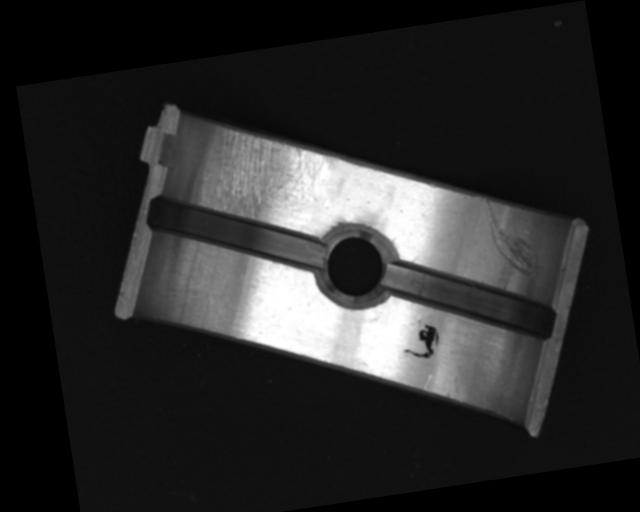blot: (399, 321, 442, 364)
gap: (138, 171, 327, 293), (378, 238, 561, 363)
hole: (313, 224, 398, 311)
nick: (484, 191, 542, 286)
scratch: (207, 110, 337, 222)
